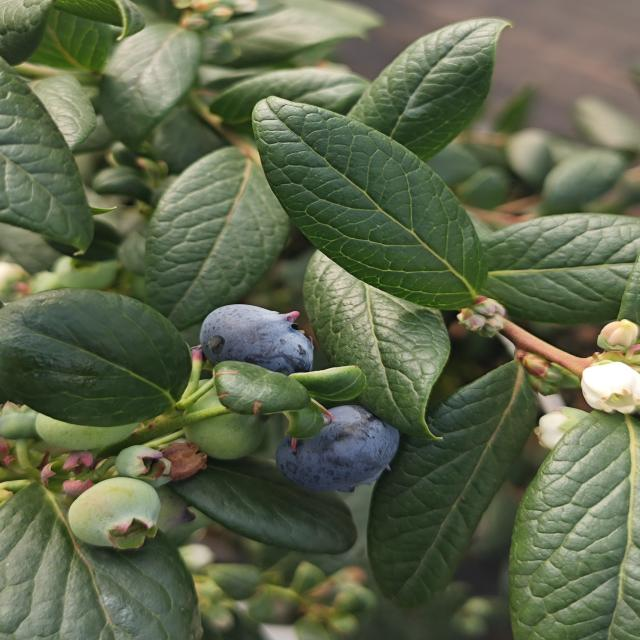ripe: (272, 402, 402, 495), (196, 302, 317, 377)
